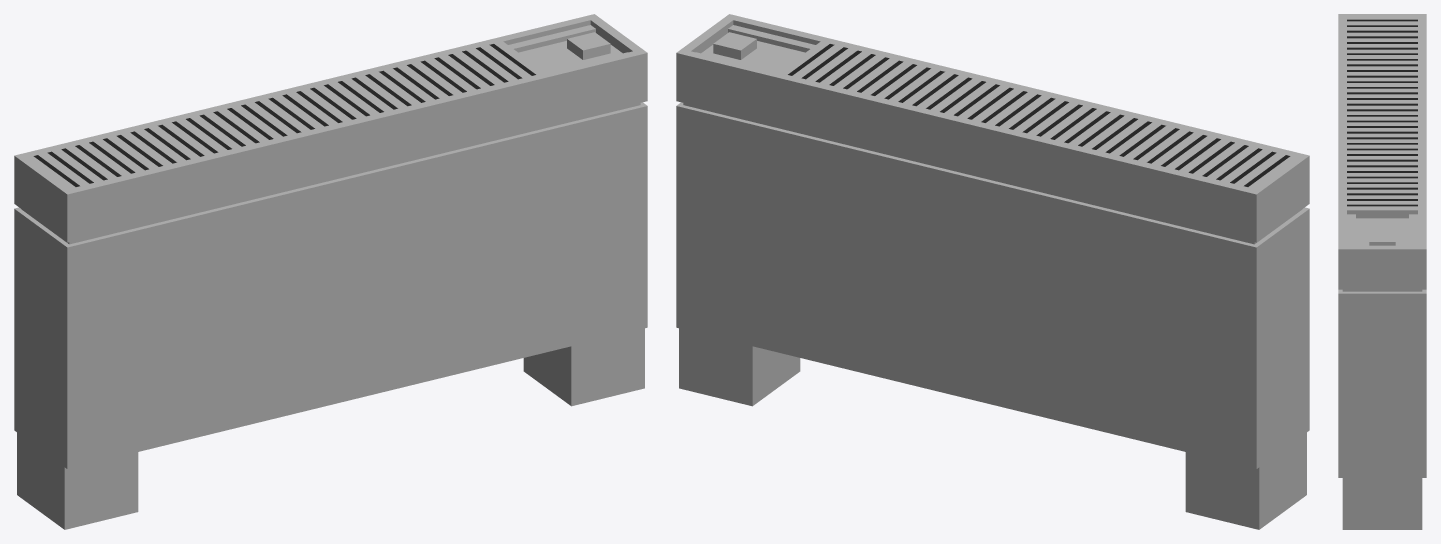
Rendered from radiator.obj.
3 renders of one model, left to right at view 1: azimuth 30°, elevation 25°; view 2: azimuth 150°, elevation 25°; view 3: azimuth 270°, elevation 25°, orthographic. The views are drawn at different scales.
Bounding box in the file's own units: 126 × 70 × 20.
Materials: 1 (1 with a texture image).
